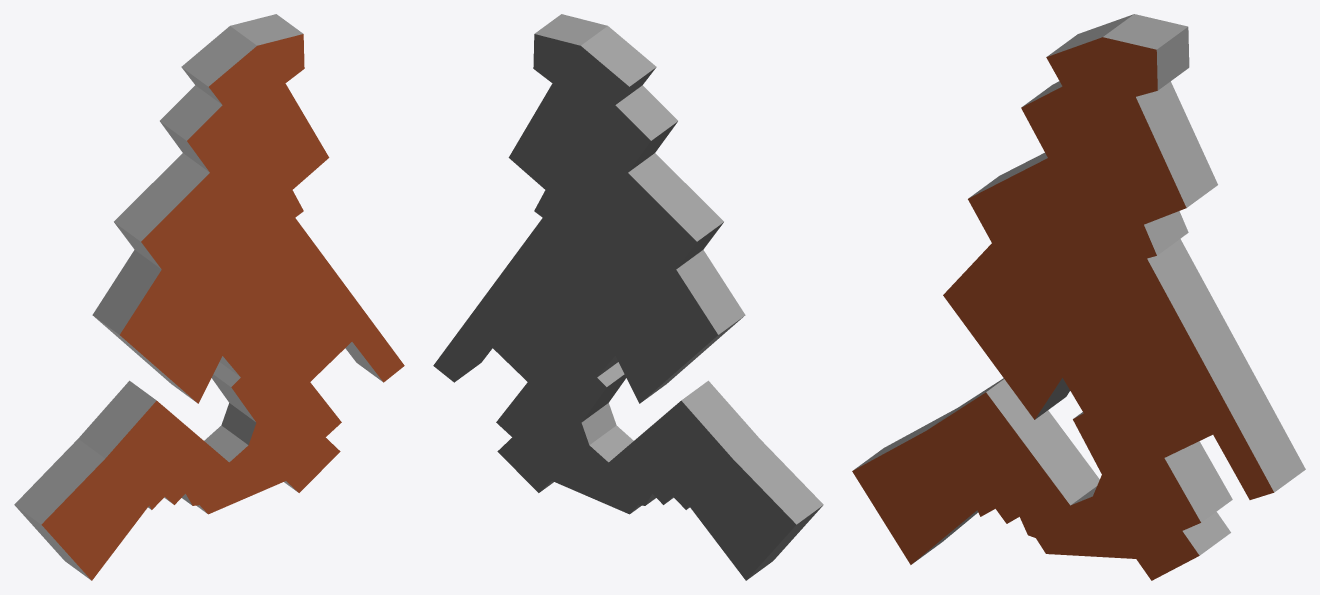
The model's file is construction_6305_assumed_A_Casa_h6m.obj.
3 views of the same model, side by side, from view 1: azimuth 30°, elevation 25°; view 2: azimuth 150°, elevation 25°; view 3: azimuth 330°, elevation 25° (orthographic). The views are drawn at different scales.
Parts seen in each view (by area): view 1: construction_6305_assumed_A_Casa; view 2: construction_6305_assumed_A_Casa; view 3: construction_6305_assumed_A_Casa.
Boxes of the visible parts, x1,y1,x2,y2 form: construction_6305_assumed_A_Casa: [14, 14, 404, 580]; construction_6305_assumed_A_Casa: [433, 14, 823, 580]; construction_6305_assumed_A_Casa: [852, 14, 1305, 580].
Size of the model in its own units: 46.25 by 60.24 by 6.
